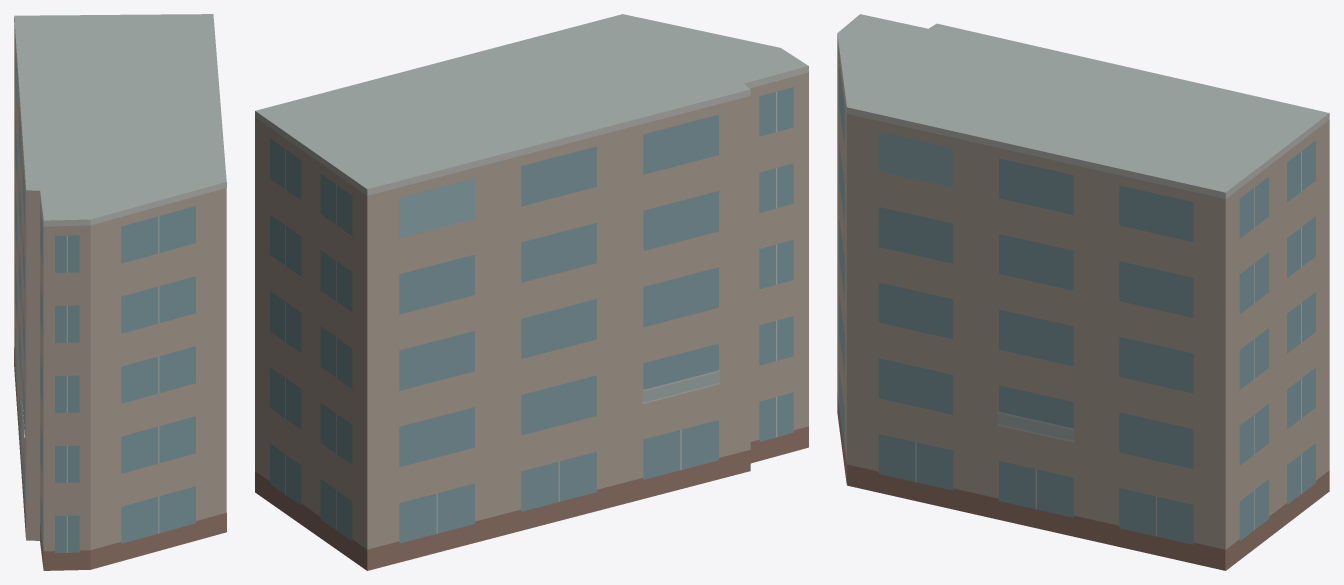
File: survey-upis-33036392.glb
3 renders of one model, left to right at view 1: azimuth 30°, elevation 25°; view 2: azimuth 150°, elevation 25°; view 3: azimuth 270°, elevation 25°, orthographic. The views are drawn at different scales.
Visible parts, largest first — view 1: survey-upis-33036392.tmp; view 2: survey-upis-33036392.tmp; view 3: survey-upis-33036392.tmp.
Part boxes in pixels (x1,y1,x2,y2): survey-upis-33036392.tmp: (14,14,226,570); survey-upis-33036392.tmp: (255,14,808,570); survey-upis-33036392.tmp: (837,14,1329,570).
Bounding box in the file's own units: 14.6 × 14.4 × 17.
